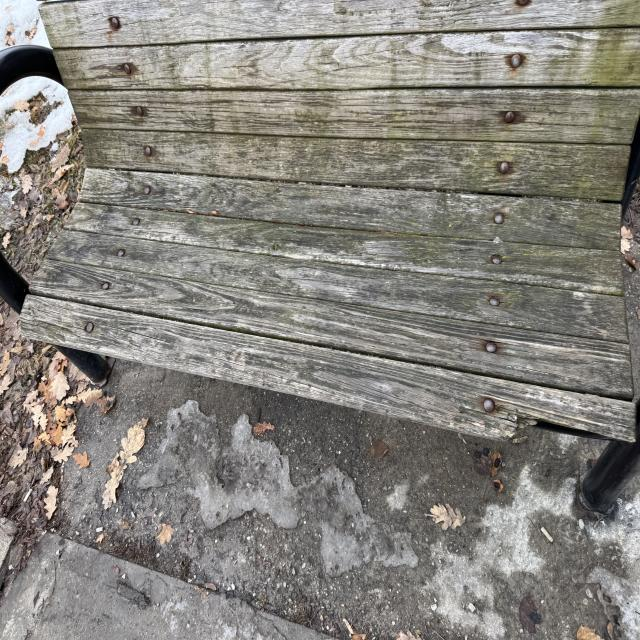Bench: (1, 3, 639, 476)
